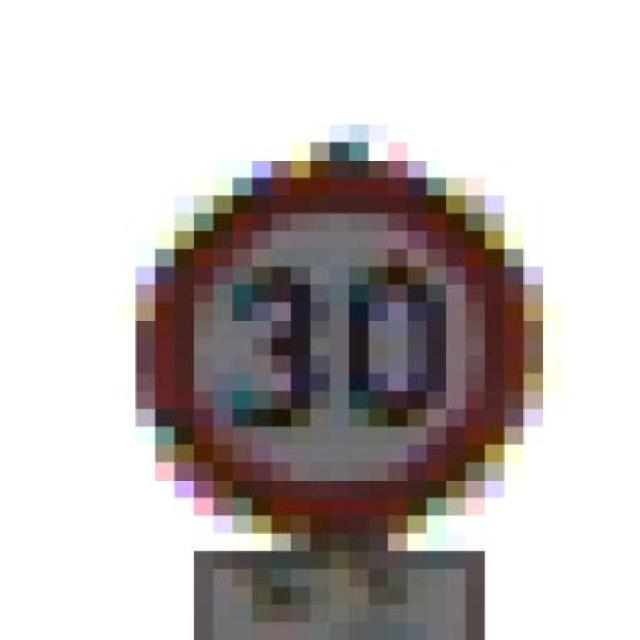Speed Limit 30 KMPh: (97, 124, 543, 534)
